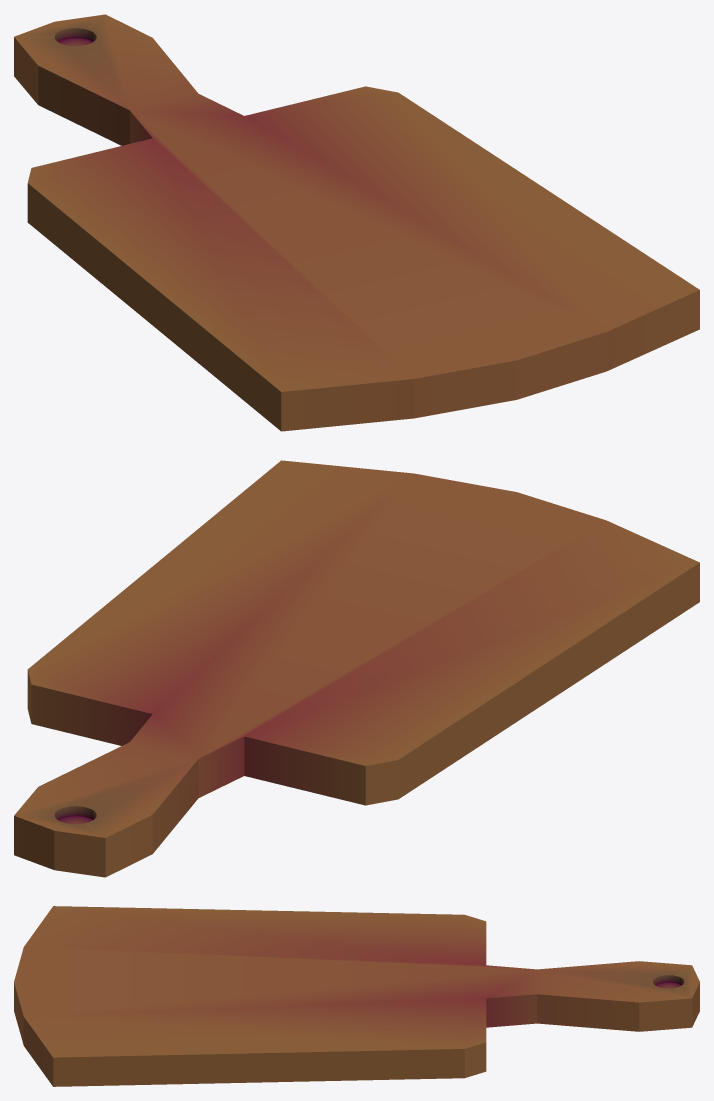
The picture shows the model from 3 angles, top to bottom: view 1: azimuth 30°, elevation 25°; view 2: azimuth 150°, elevation 25°; view 3: azimuth 270°, elevation 25°; orthographic projection. The views are drawn at different scales.
Parts seen in each view (by area): view 1: board; view 2: board; view 3: board.
Boxes of the visible parts, left/top/right/bottom form: board: left=14, top=14, right=699, bottom=431; board: left=14, top=460, right=699, bottom=877; board: left=14, top=906, right=699, bottom=1086.
Bounding box in the file's own units: 0.1829 × 0.0165 × 0.35.
